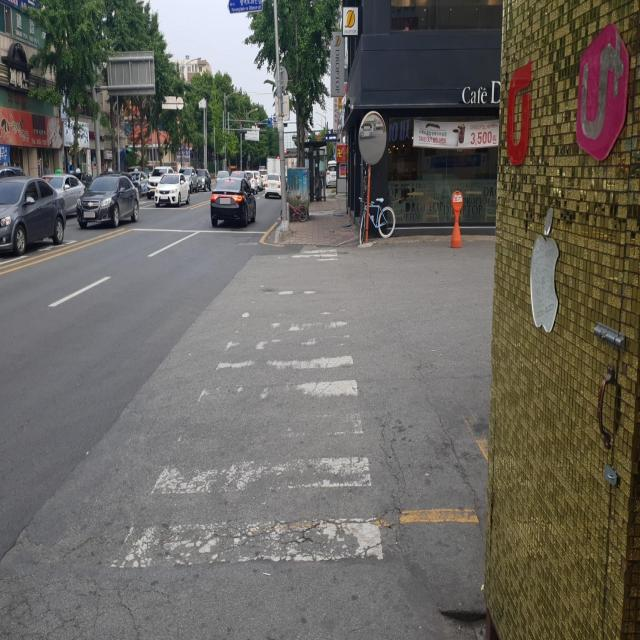횡단보도: (110, 247, 384, 571)
